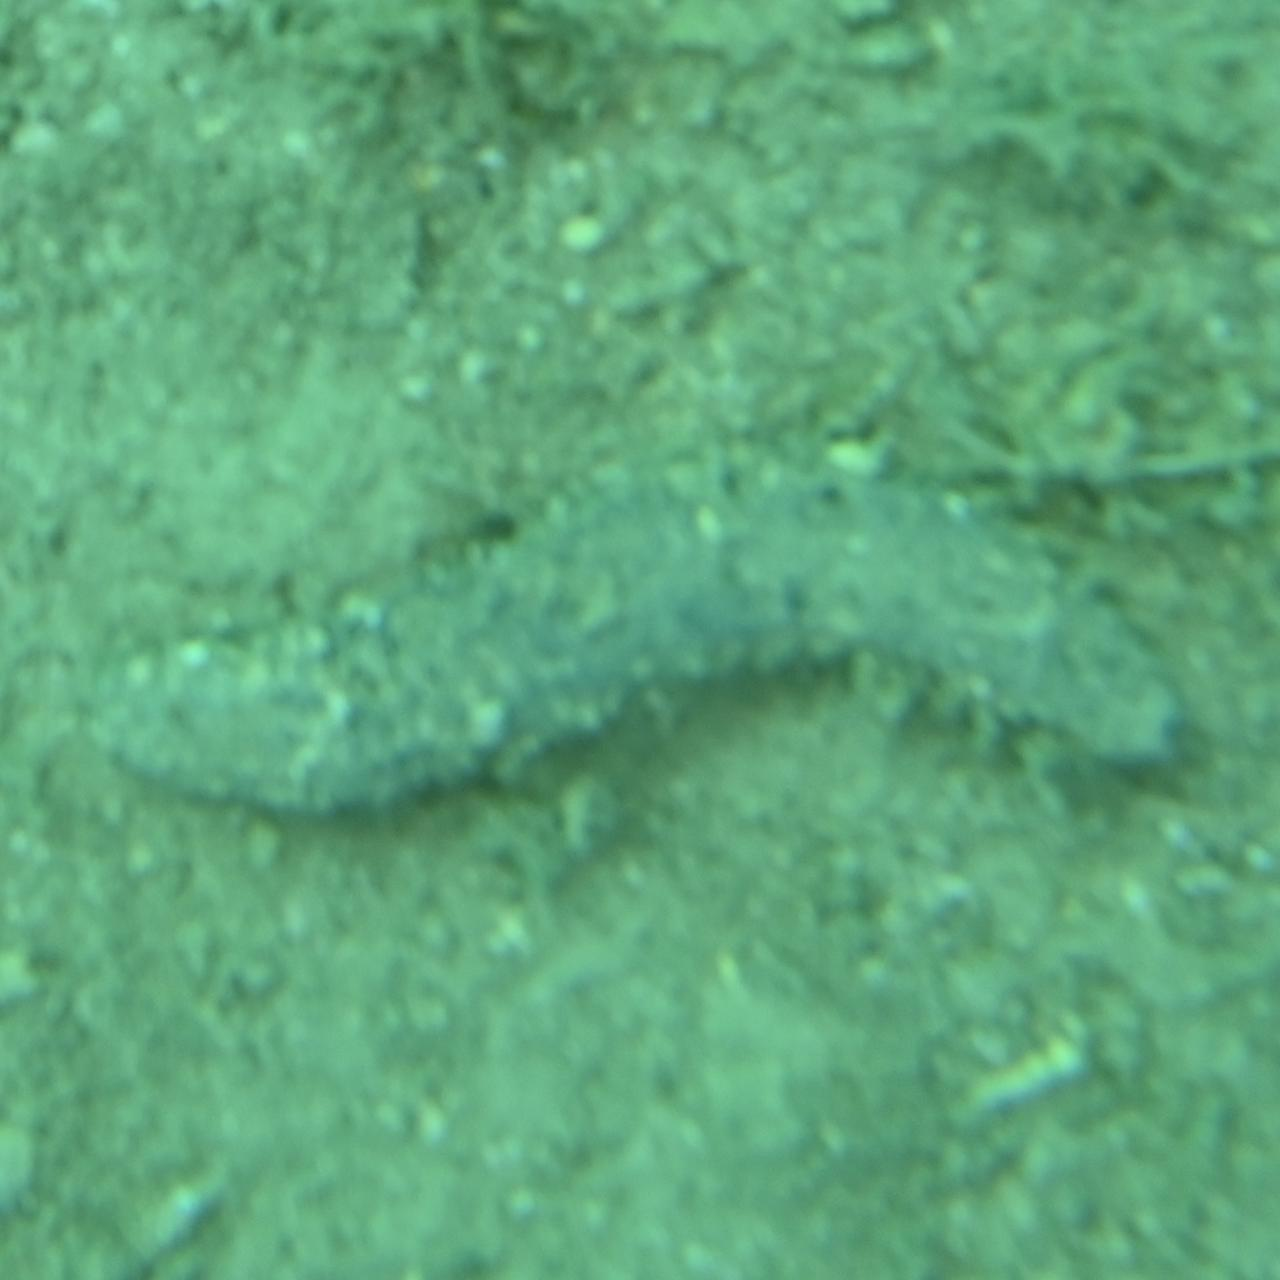Holothuria tubulosa: (94, 453, 1186, 827)
